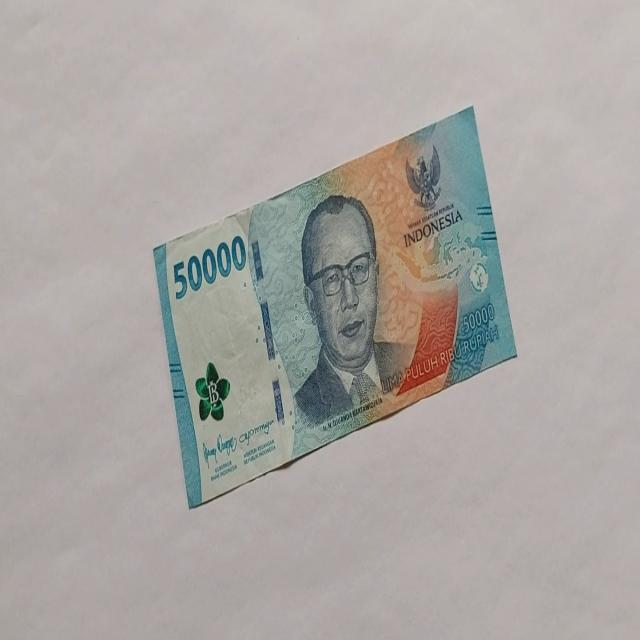lima puluh ribu rupiah: (152, 104, 518, 508), (291, 192, 407, 430), (172, 232, 246, 300)
